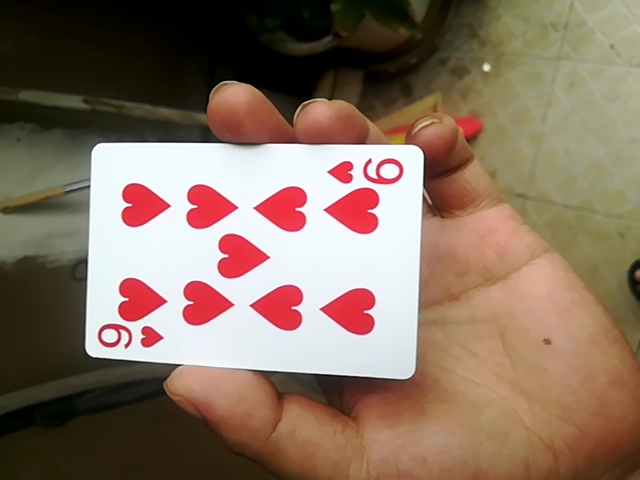hx 9: (78, 139, 427, 384)
